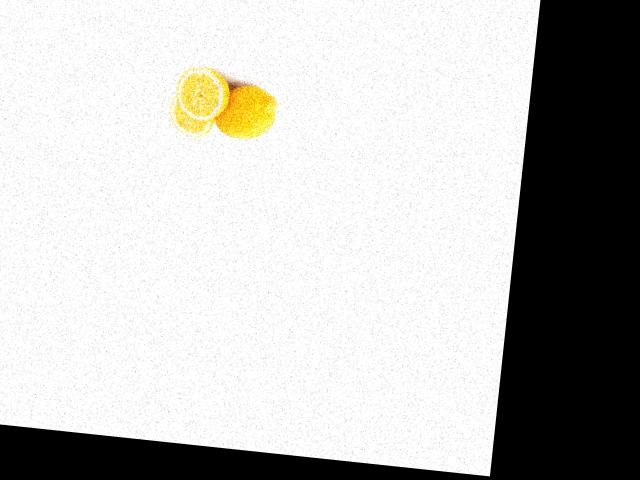lemon: (212, 81, 283, 145)
